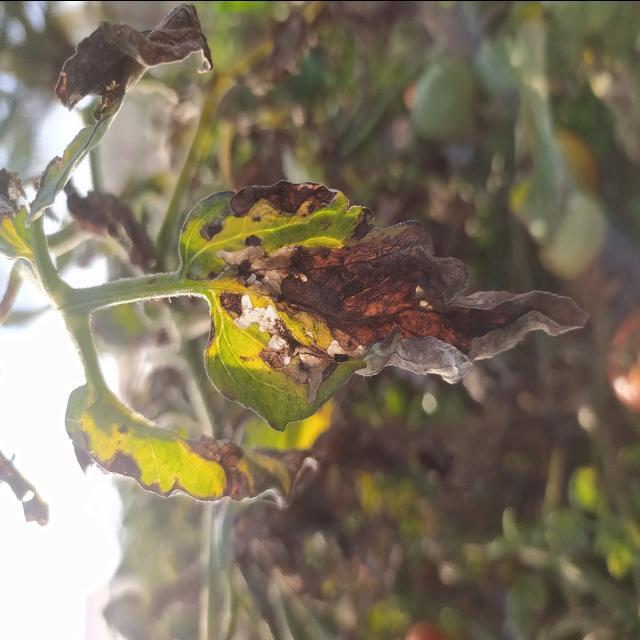Tomato mosaic virus leaf: (178, 176, 603, 434)
